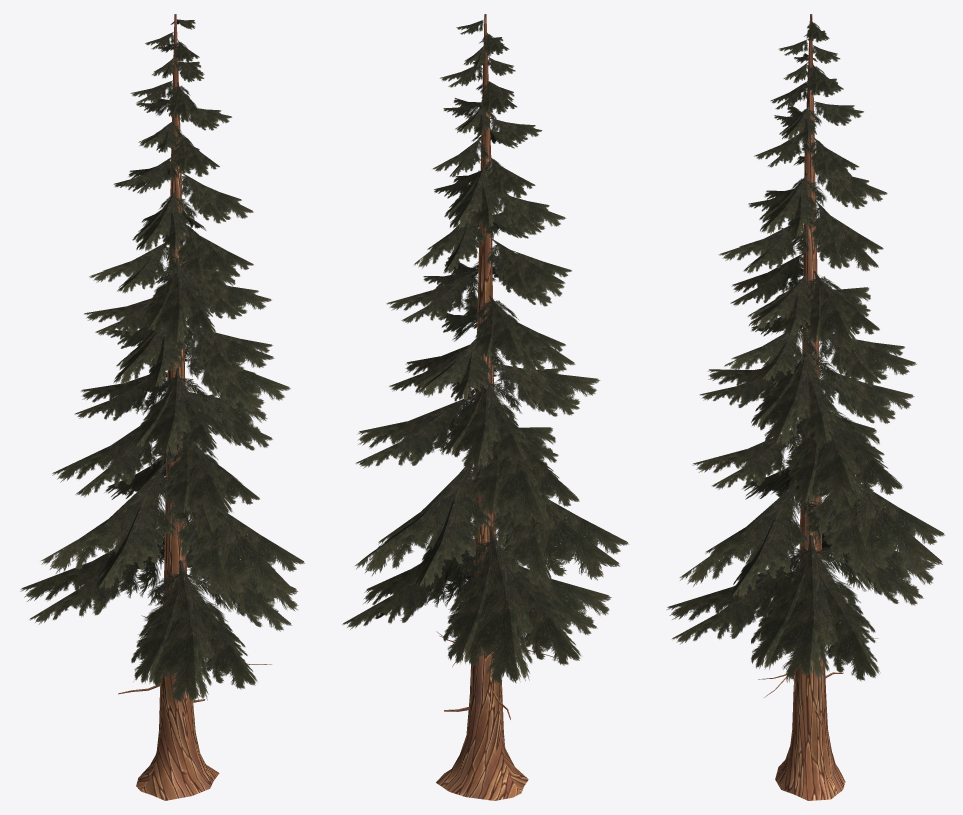
The model's file is tree-transformed.glb.
3 renders of one model, left to right at view 1: azimuth 30°, elevation 25°; view 2: azimuth 150°, elevation 25°; view 3: azimuth 270°, elevation 25°, orthographic.
Visible parts, largest first — view 1: Plane.001_Branches_0, Circle.001_Bark_0; view 2: Plane.001_Branches_0, Circle.001_Bark_0; view 3: Plane.001_Branches_0, Circle.001_Bark_0.
Boxes of the visible parts, x1,y1,x2,y2 form: Plane.001_Branches_0: (20,19,304,702); Circle.001_Bark_0: (118,14,271,800); Plane.001_Branches_0: (342,20,628,684); Circle.001_Bark_0: (436,14,557,800); Plane.001_Branches_0: (667,20,945,682); Circle.001_Bark_0: (758,14,878,800).
Size of the model in its own units: 11.47 by 31.78 by 10.82.
Materials: 2 (2 with a texture image).
